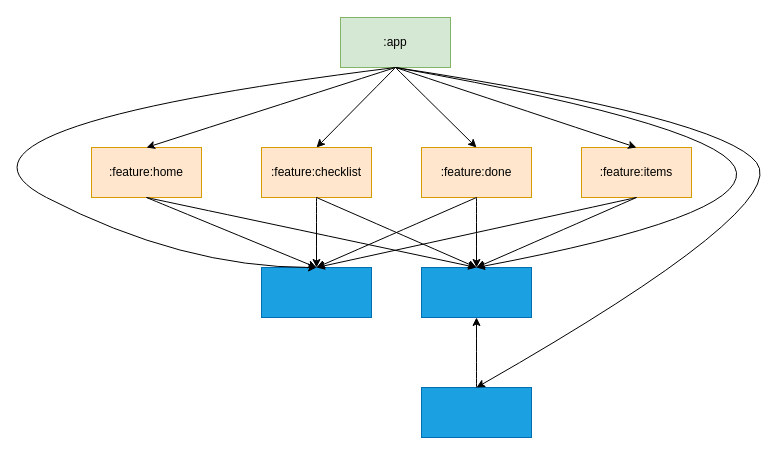
Image size: 778x455. Some labels were removed from this diagram. Each missing label, with the centre of its shape:
:core:data: (x=476, y=412)
:core:domain: (x=476, y=292)
:core:ui: (x=316, y=292)
